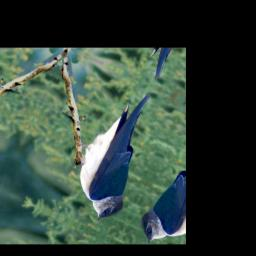Swallow: (48, 74, 173, 230)
